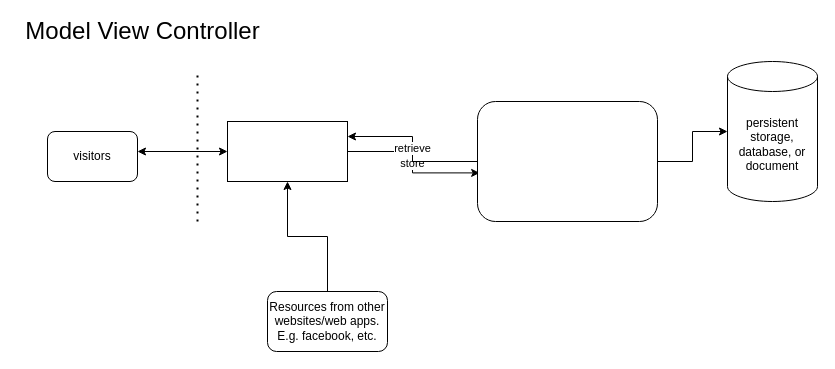
Some shapes in this 835 by 369 pixel diagram are drawn without their labels. The shapes that lost their labels are listed below. From the top down, each one's centre as x and y in pixels, then its label:
At (287,151): "Front End Web GUI/React JS".
At (567,161): "python".
